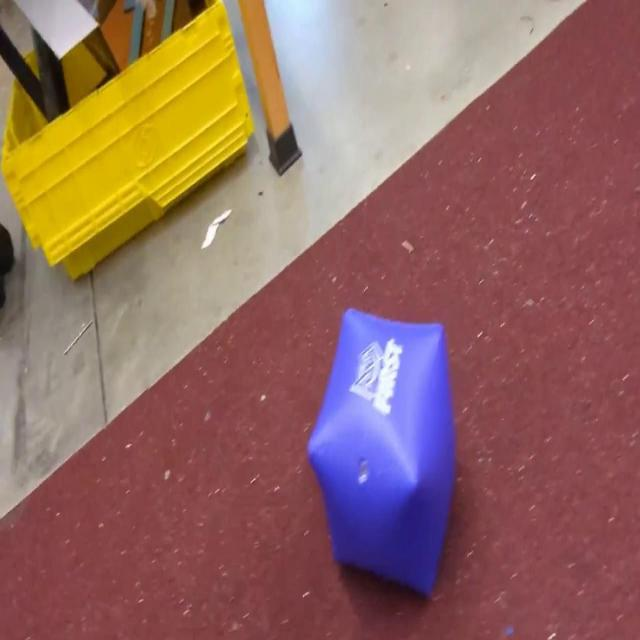frc_cube: (306, 304, 458, 601)
